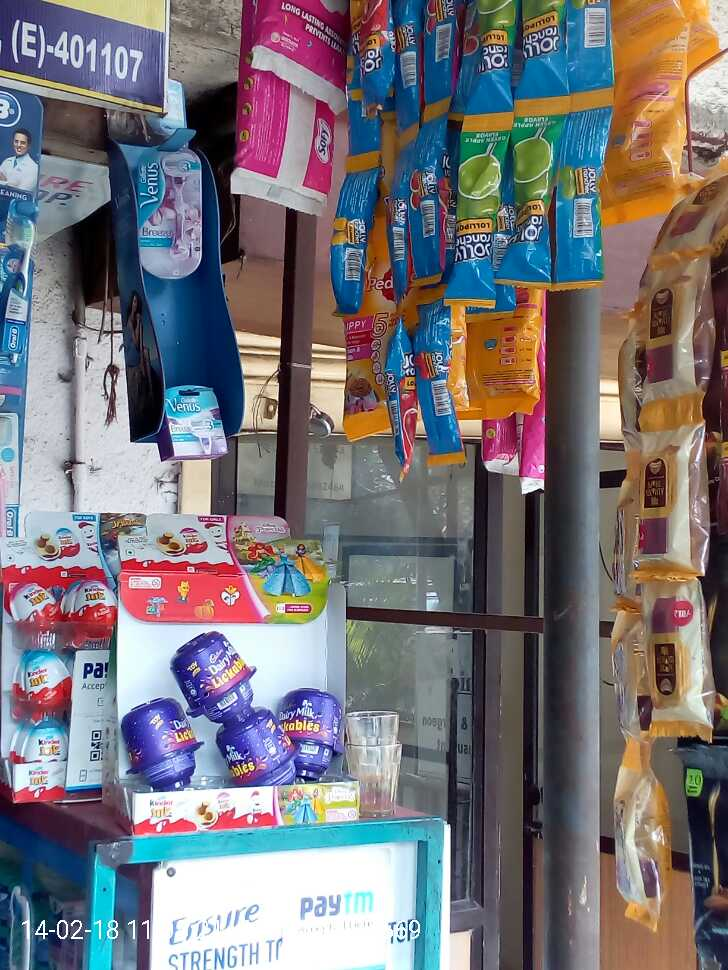beauty: (133, 153, 209, 280), (163, 384, 231, 457)
